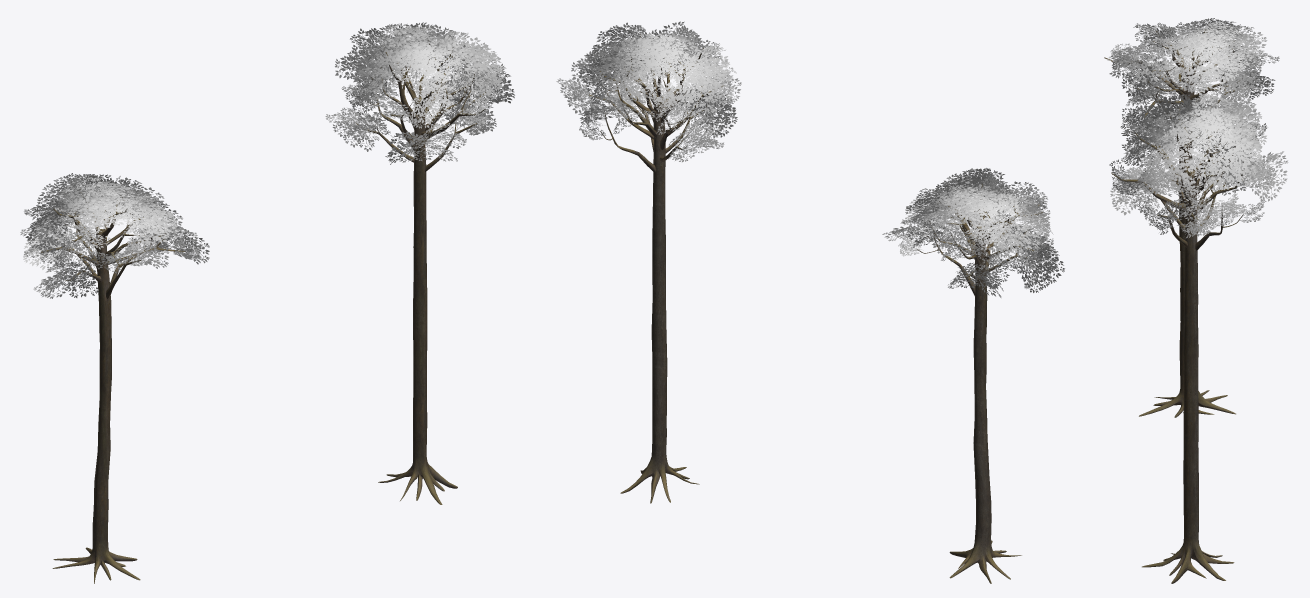
The model's file is Canopy_Base_Tall_1.fbx.
3 renders of one model, left to right at view 1: azimuth 30°, elevation 25°; view 2: azimuth 150°, elevation 25°; view 3: azimuth 270°, elevation 25°, orthographic. The views are drawn at different scales.
Parts seen in each view (by area): view 1: Plane.031, Plane.033, Cube.189, Cube.191; view 2: Plane.031, Plane.033, Cube.189, Cube.191; view 3: Plane.031, Plane.033, Cube.189, Cube.191.
Part boxes in pixels (<box>): Plane.031: <box>325,22,514,164</box>; Plane.033: <box>20,173,209,298</box>; Cube.189: <box>356,40,485,504</box>; Cube.191: <box>41,192,185,583</box>; Plane.031: <box>556,21,741,162</box>; Plane.033: <box>882,168,1064,297</box>; Cube.189: <box>589,34,723,503</box>; Cube.191: <box>917,183,1042,583</box>; Plane.031: <box>1109,94,1288,238</box>; Plane.033: <box>1107,18,1279,132</box>; Cube.189: <box>1111,108,1243,583</box>; Cube.191: <box>1104,29,1241,417</box>.
Bounding box in the file's own units: 29648 × 26244 × 9919.
